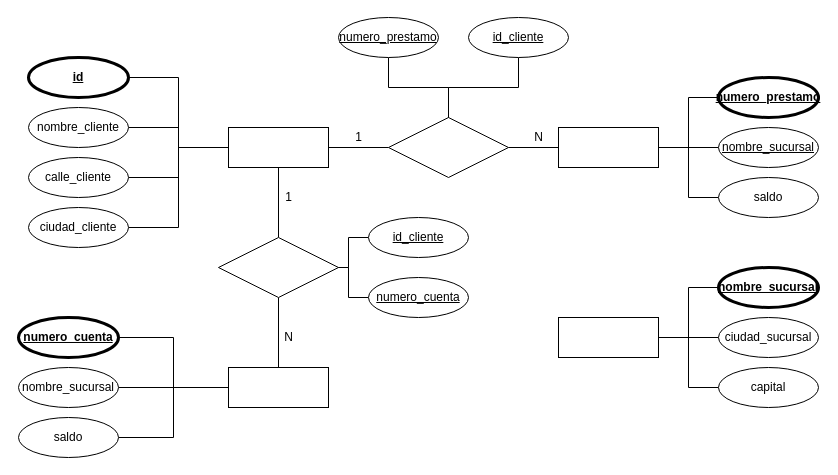
This 838x475 diagram has some shape labels left out. The centre of each missing label's shape, as x and y in pixels:
cliente: [278,147]
cliente_cuenta: [278,267]
cliente_prestamo: [448,147]
cuenta: [278,387]
prestamo: [608,147]
sucursal: [608,337]
